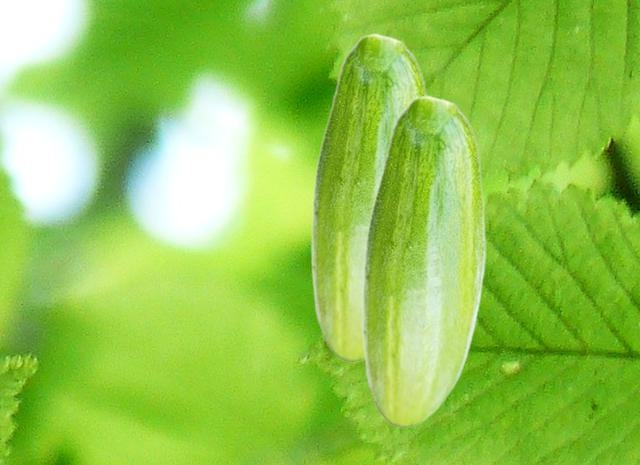cucumber: (361, 95, 485, 427), (310, 33, 429, 361)
